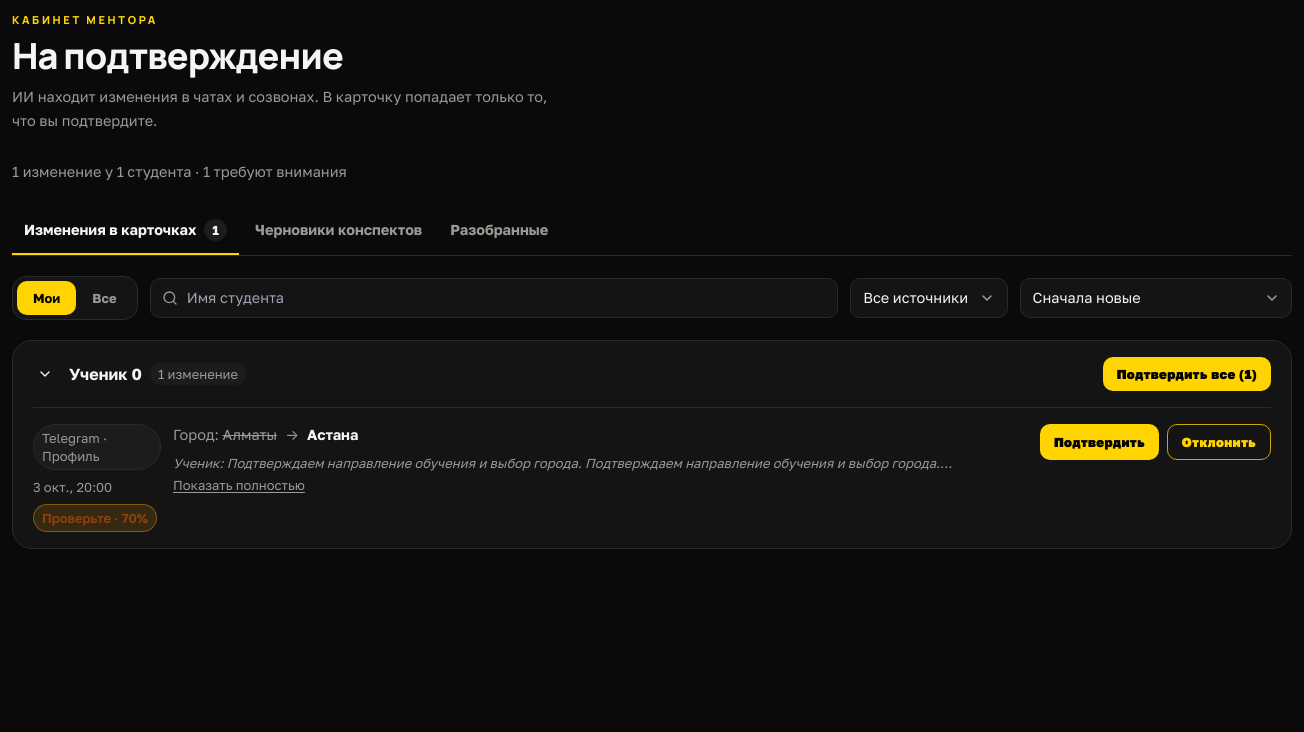
it: подтверждение вызывает существующий API и убирает обработанное предложение
Expected: the link "Ученик 0" is shown, [69, 362, 142, 386]
What coordinates should you click on to do the following:
click the button "Подтвердить"
I would click on:
 (1099, 442)
Its box is [1040, 424, 1159, 460].
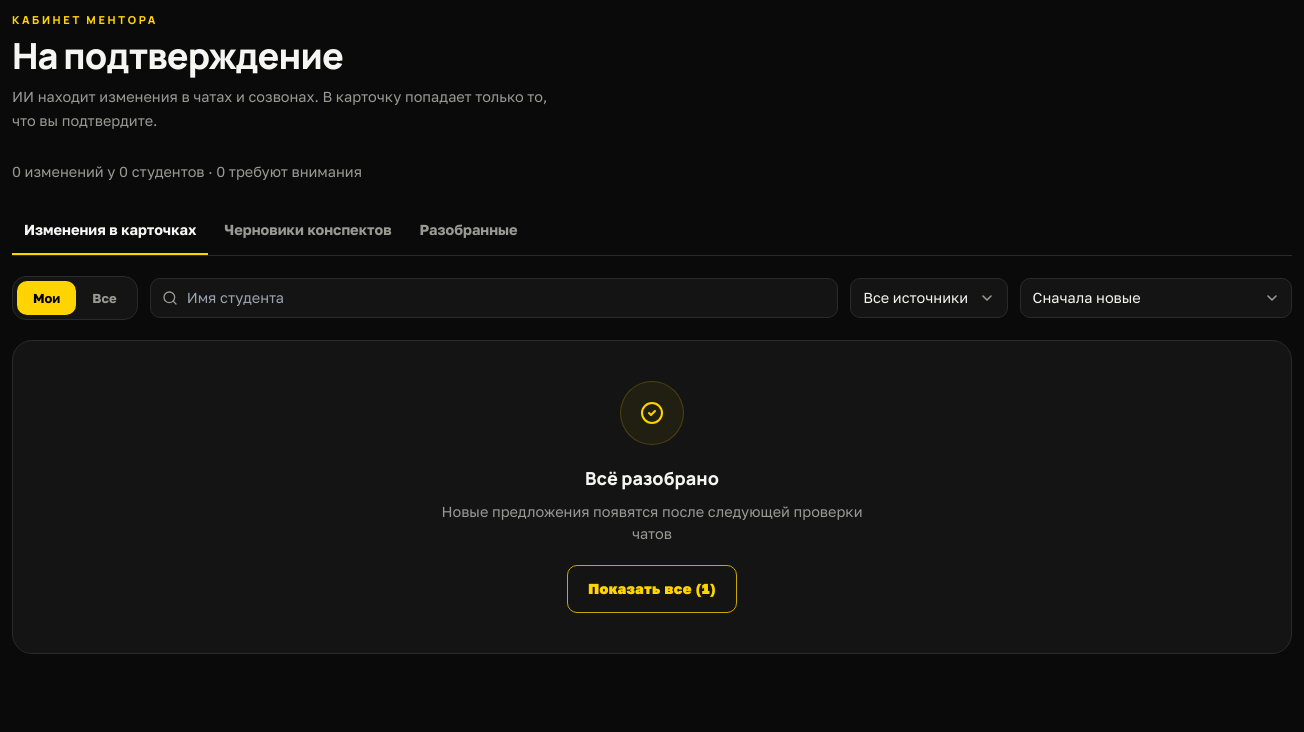
Now the text "Всё разобрано" is shown, box [585, 468, 719, 488]
